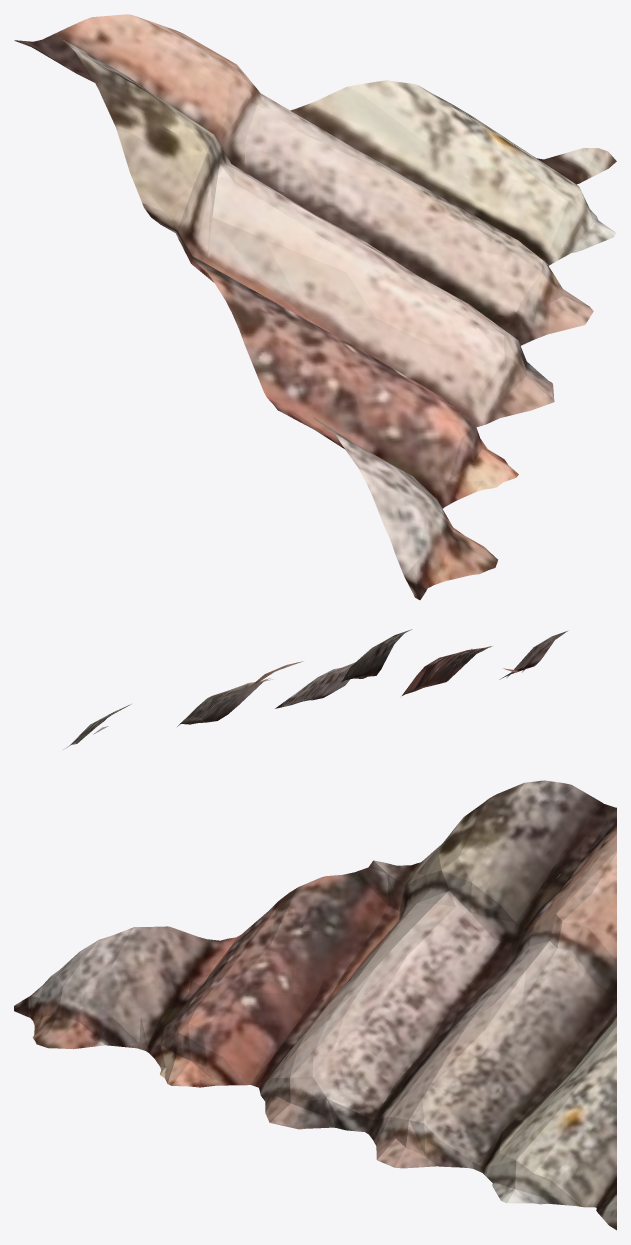
3 renders of one model, top to bottom at view 1: azimuth 30°, elevation 25°; view 2: azimuth 150°, elevation 25°; view 3: azimuth 270°, elevation 25°, orthographic. The views are drawn at different scales.
Bounding box in the file's own units: 0.727 × 0.3506 × 0.8374.
2 materials, 2 textured.
